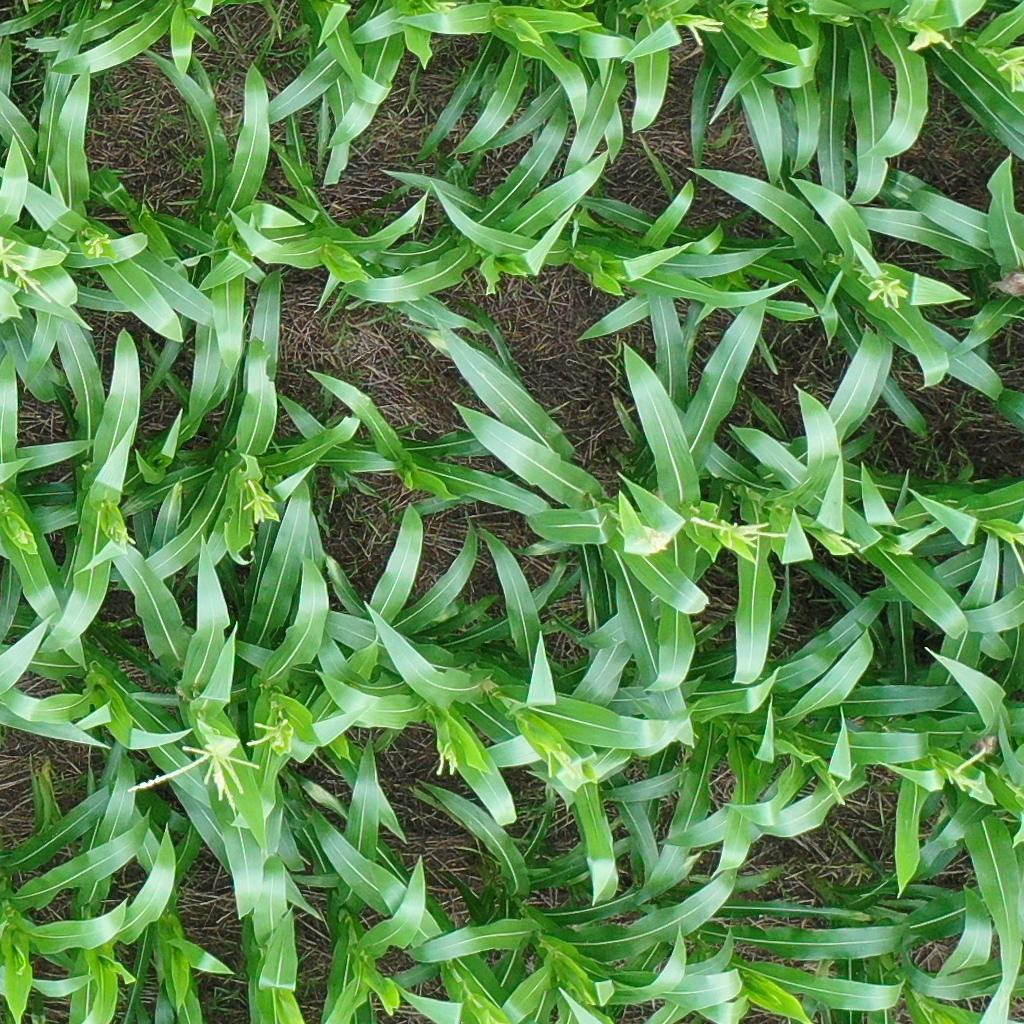Tassel: (126, 735, 261, 800), (688, 504, 786, 552), (1, 219, 52, 302), (939, 745, 993, 800), (243, 712, 291, 754), (905, 13, 957, 51), (240, 478, 282, 525), (865, 269, 904, 310), (539, 743, 582, 780), (687, 11, 728, 47), (632, 521, 674, 554), (429, 741, 463, 779), (822, 526, 863, 556), (997, 51, 1024, 94), (1004, 524, 1024, 580), (80, 227, 115, 258), (105, 520, 136, 554), (746, 2, 774, 28), (12, 525, 35, 547), (422, 1, 458, 14)
